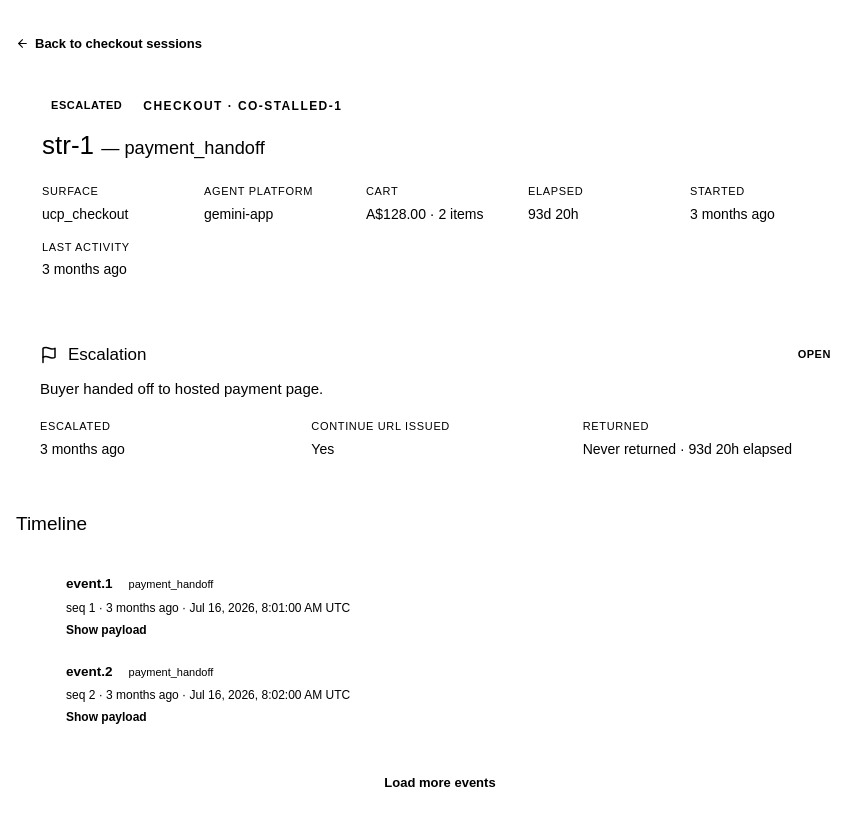
CheckoutSessionDetailView — timeline pagination (R7) › paginates against a mocked cursor sequence, including the terminal page
Expected: the number of list items with class "entry" is 2, left=66, top=576, right=350, bottom=637; left=66, top=664, right=350, bottom=724
What coordinates should you click on to do the following:
click the button with class "load-more-btn"
I would click on:
 (440, 782)
Its box is left=364, top=766, right=516, bottom=799.
(page scrolled)
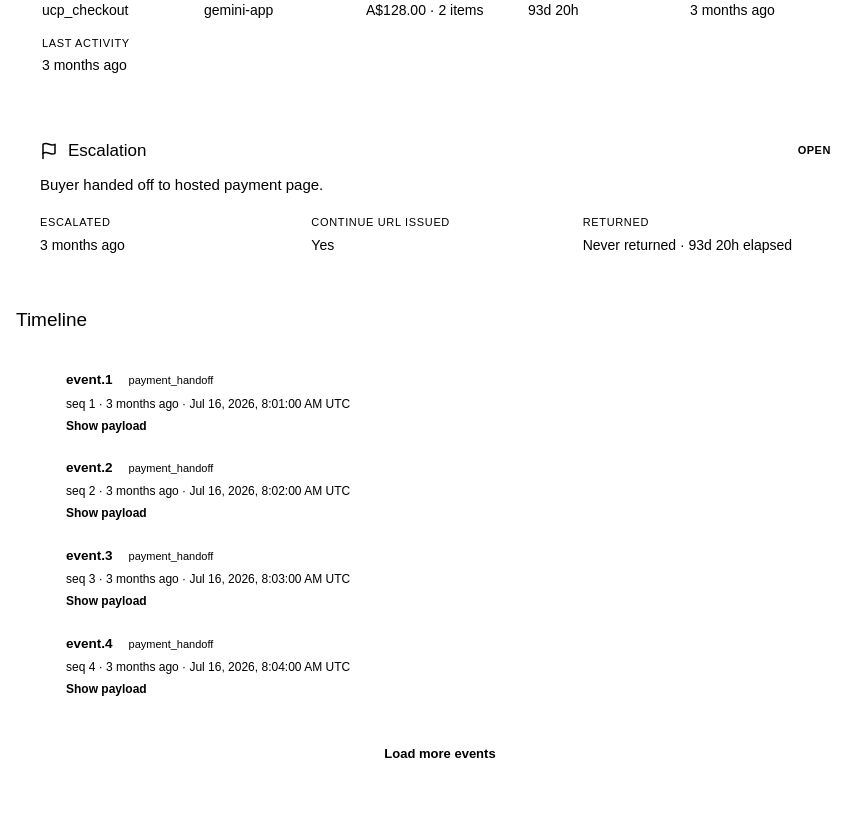
Now the number of list items with class "entry" is 4, box left=66, top=372, right=350, bottom=433; left=66, top=460, right=350, bottom=520; left=66, top=548, right=350, bottom=608; left=66, top=636, right=350, bottom=696
// Terminal page: has_more false removes the Load more control.
What coordinates should you click on to do the following:
click the button with class "load-more-btn"
I would click on:
 (440, 754)
Its box is left=364, top=737, right=516, bottom=770.
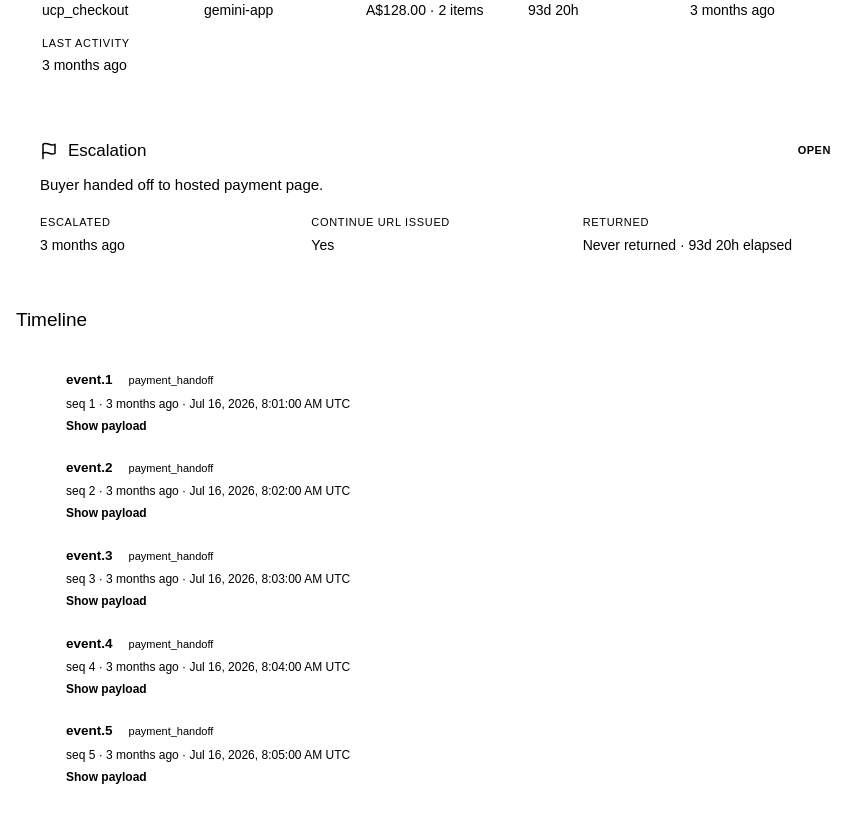
Now the number of list items with class "entry" is 5, box left=66, top=372, right=350, bottom=433; left=66, top=460, right=350, bottom=520; left=66, top=548, right=350, bottom=608; left=66, top=636, right=350, bottom=696; left=66, top=723, right=350, bottom=784
